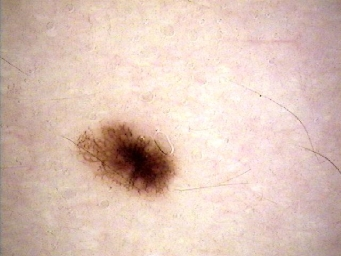melanoma: (77, 122, 177, 198)
